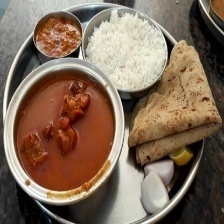roti: (128, 40, 224, 166)
